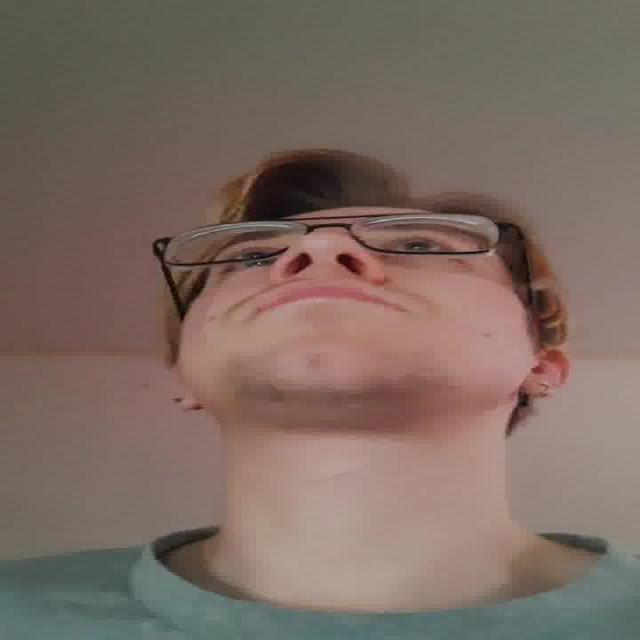earlobe: (515, 340, 576, 398)
